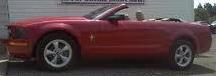headlight: (2, 22, 36, 43)
side_glass: (87, 1, 158, 28)
